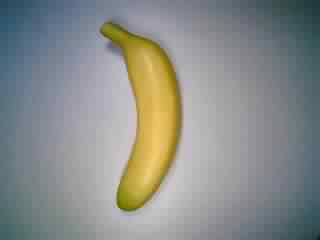banana: (94, 17, 188, 214)
